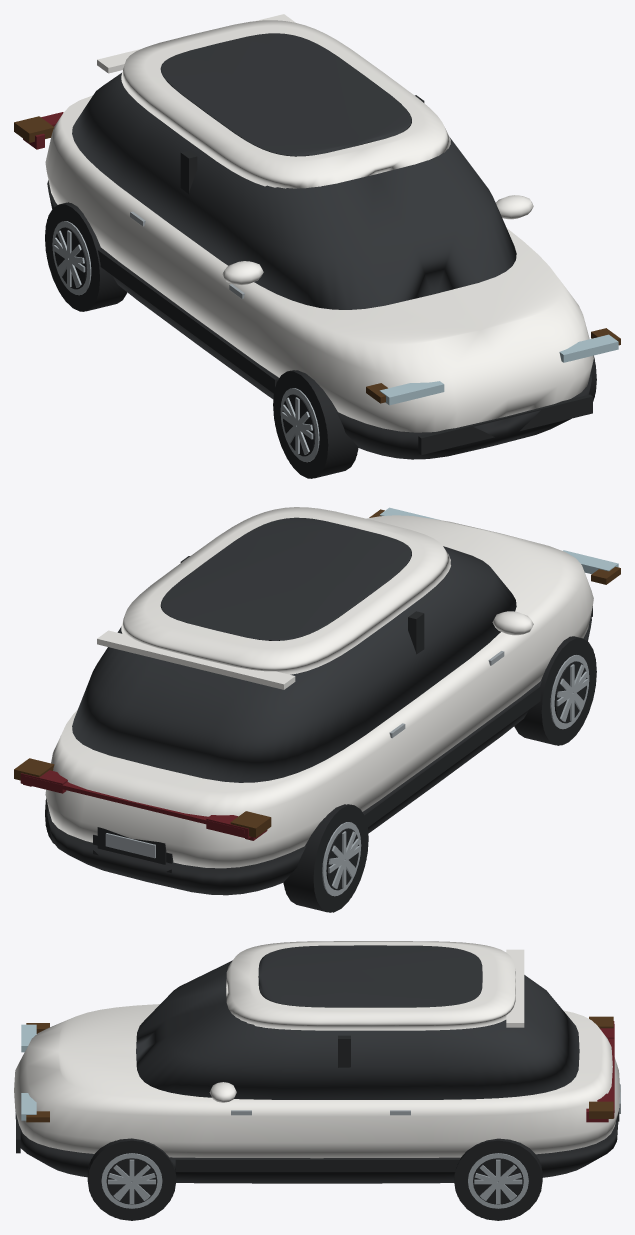
The model's file is ego-cuv-v1.glb.
3 renders of one model, top to bottom at view 1: azimuth 30°, elevation 25°; view 2: azimuth 150°, elevation 25°; view 3: azimuth 270°, elevation 25°, orthographic. The views are drawn at different scales.
Parts seen in each view (by area): view 1: CUV_LOD0, FrontRight_0, RearRight_0, FrontRight_1, RearRight_1, RearRight_2; view 2: CUV_LOD0, RearRight_0, FrontRight_0, FrontRight_1, RearRight_1; view 3: CUV_LOD0, FrontLeft_0, RearLeft_0, FrontLeft_1, RearLeft_1, RearLeft_2, FrontLeft_2.
Part boxes in pixels (x1,y1,x2,y2): CUV_LOD0: [14, 14, 620, 459]; FrontRight_0: [273, 370, 358, 478]; RearRight_0: [45, 202, 127, 311]; FrontRight_1: [273, 370, 357, 478]; RearRight_1: [45, 202, 124, 311]; RearRight_2: [45, 208, 99, 307]; CUV_LOD0: [14, 507, 620, 895]; RearRight_0: [283, 804, 368, 912]; FrontRight_0: [514, 636, 596, 745]; FrontRight_1: [517, 636, 596, 745]; RearRight_1: [284, 804, 368, 912]; CUV_LOD0: [14, 941, 620, 1183]; FrontLeft_0: [87, 1138, 176, 1220]; RearLeft_0: [454, 1138, 542, 1220]; FrontLeft_1: [88, 1140, 175, 1220]; RearLeft_1: [454, 1140, 541, 1220]; RearLeft_2: [454, 1141, 541, 1220]; FrontLeft_2: [88, 1141, 175, 1219].
Size of what is drawn, in the model's own units: 2.19 by 1.63 by 4.66.
